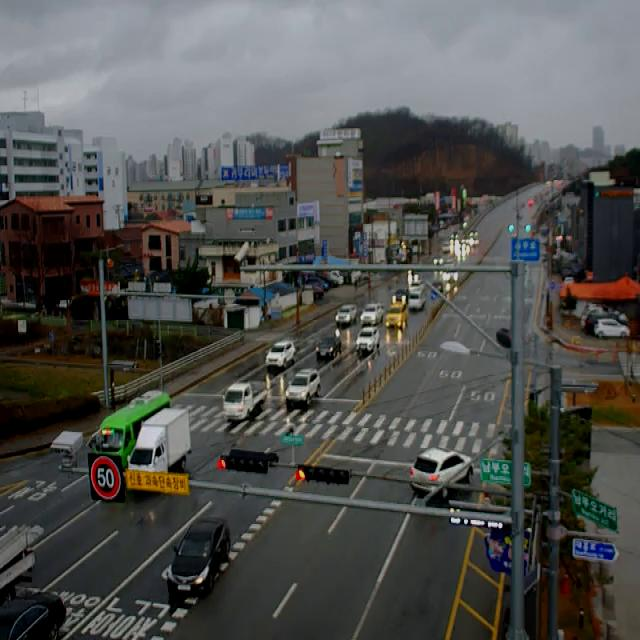Bus: (96, 391, 170, 468)
Car: (167, 516, 230, 592), (0, 592, 66, 640), (411, 448, 474, 493), (286, 369, 320, 404), (581, 305, 629, 328), (585, 310, 627, 332), (266, 341, 296, 368), (594, 319, 630, 339), (356, 326, 380, 351), (386, 302, 408, 328), (360, 303, 384, 326), (316, 337, 342, 358), (336, 304, 357, 326), (322, 271, 343, 287), (496, 328, 512, 348), (305, 285, 324, 301), (306, 278, 328, 291), (392, 288, 409, 302), (410, 280, 426, 293), (407, 272, 420, 284), (447, 271, 459, 283), (431, 280, 443, 292), (433, 256, 443, 265)
Truck: (128, 408, 191, 470), (223, 383, 267, 420), (408, 292, 426, 310)
